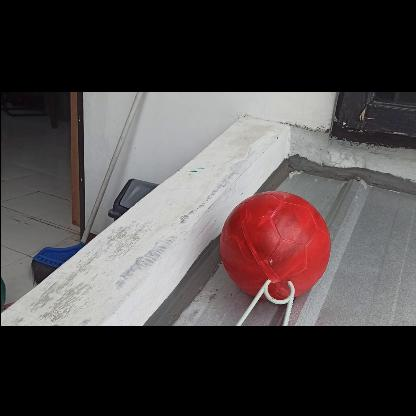red_ball: (220, 188, 330, 298)
